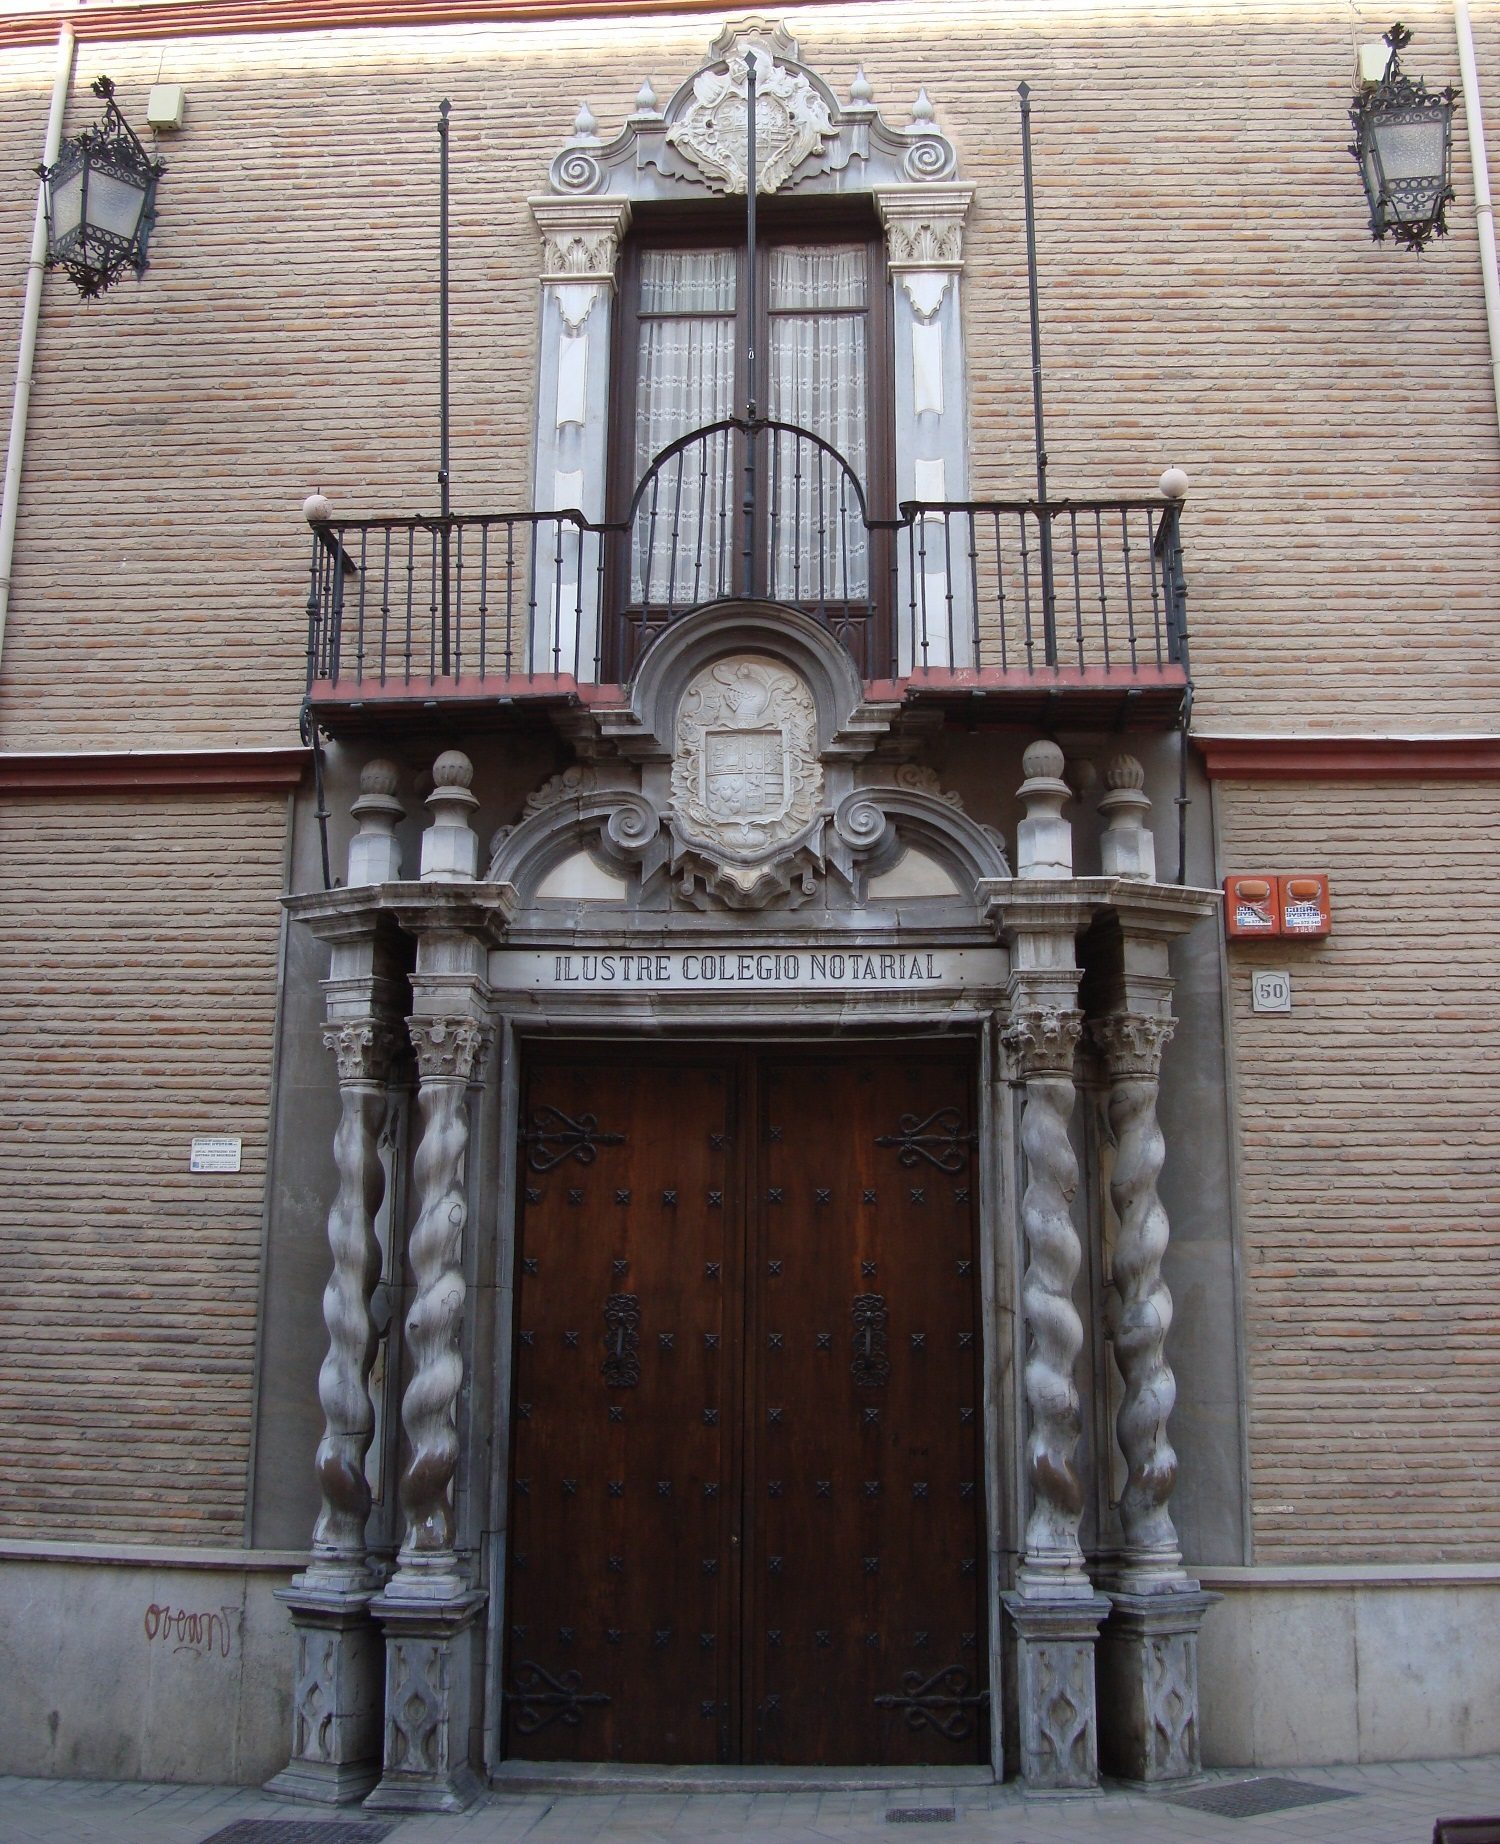columna-salomonica: (1096, 1041, 1203, 1579), (1001, 1047, 1097, 1605), (390, 1065, 484, 1601), (312, 1070, 396, 1614)
fronton-partido: (484, 784, 1013, 940)
vano-adintelado: (453, 933, 1058, 1775), (576, 171, 917, 684)
